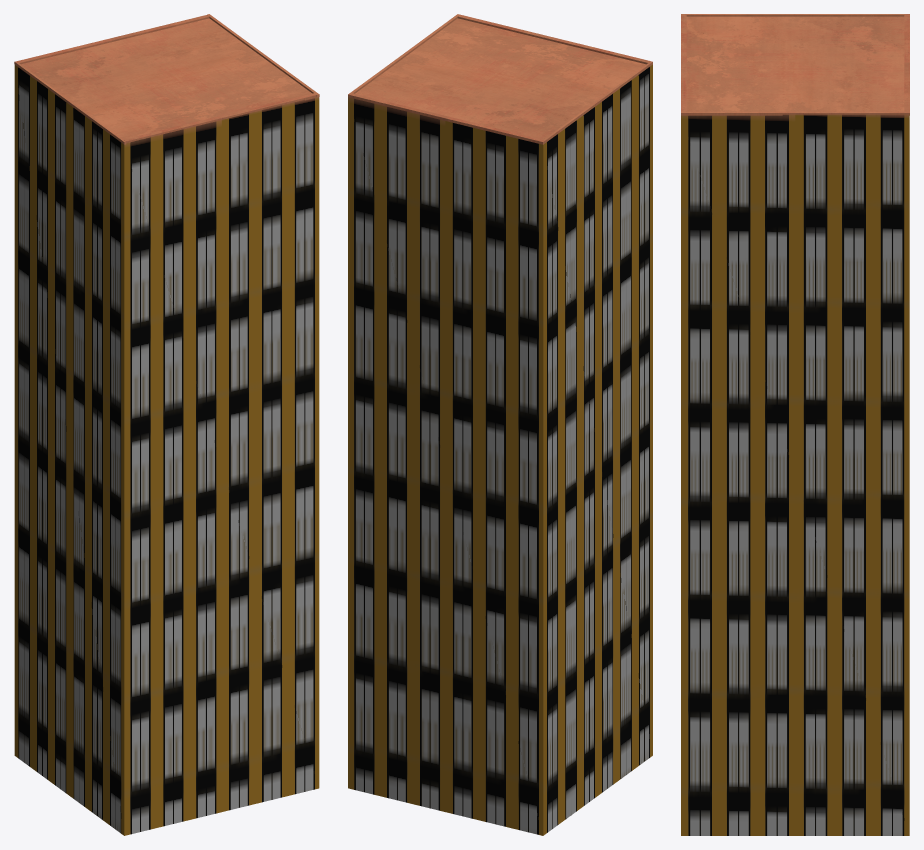
File: build3finalfbx.fbx
3 views of the same model, side by side, from view 1: azimuth 30°, elevation 25°; view 2: azimuth 150°, elevation 25°; view 3: azimuth 270°, elevation 25° (orthographic). The views are drawn at different scales.
Parts seen in each view (by area): view 1: Construction_Building; view 2: Construction_Building; view 3: Construction_Building.
Part boxes in pixels (x1,y1,x2,y2): Construction_Building: [14, 14, 319, 835]; Construction_Building: [348, 14, 652, 835]; Construction_Building: [681, 14, 909, 835].
Bounding box in the file's own units: 356 × 1211 × 347.
Materials: 1 (1 with a texture image).
